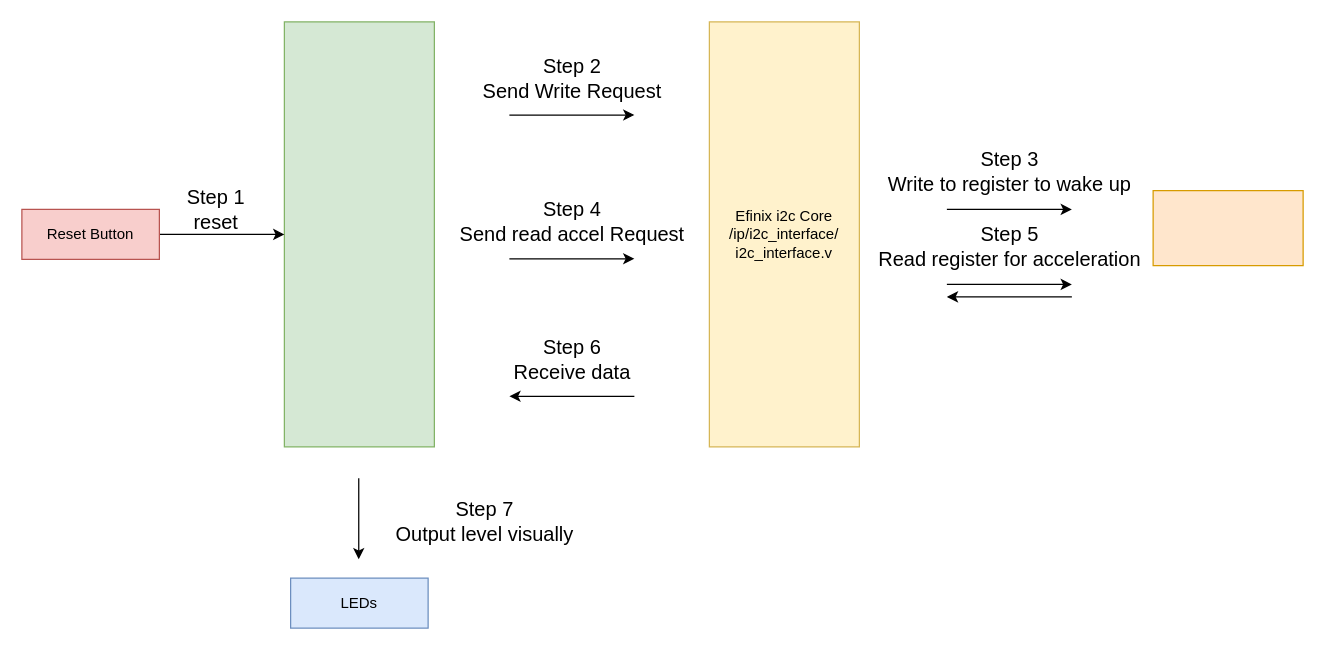
Image size: 1325x650. Some labels were removed from this diagram. The shapes that lost their labels are listed below. From the top down, each one's centre as x and y in pixels, then its label:
[358,234]: FSM level_fsm.sv
[1227,227]: MPU 6050
